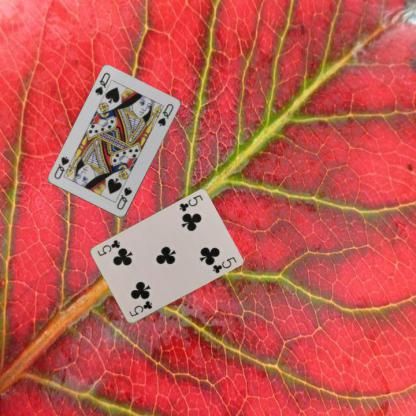5c: (177, 192, 204, 214), (127, 298, 153, 318)
Qs: (92, 70, 112, 97), (115, 185, 134, 211)
